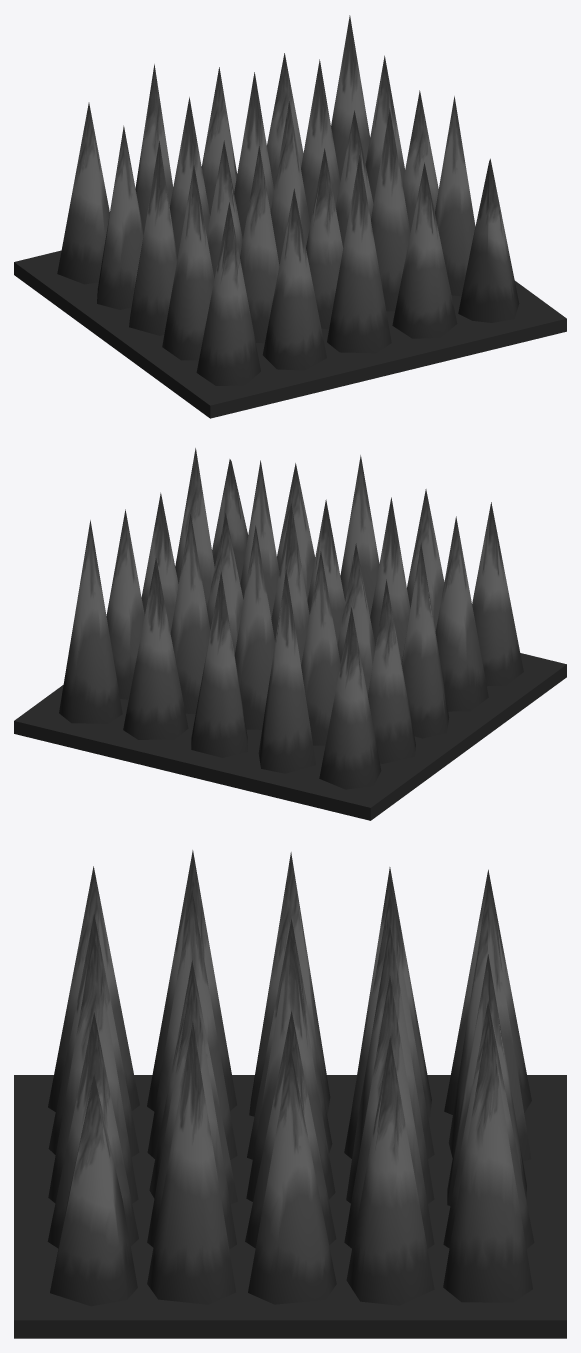
Rendered from Spikes.fbx.
The picture shows the model from 3 angles, top to bottom: view 1: azimuth 30°, elevation 25°; view 2: azimuth 150°, elevation 25°; view 3: azimuth 270°, elevation 25°; orthographic projection. The views are drawn at different scales.
Visible parts, largest first — view 1: Cube.001; view 2: Cube.001; view 3: Cube.001.
Part boxes in pixels (left/top/right/bottom): Cube.001: left=14, top=15, right=566, bottom=418; Cube.001: left=14, top=448, right=566, bottom=820; Cube.001: left=14, top=850, right=566, bottom=1338.
Bounding box in the file's own units: 915 × 872 × 507.
